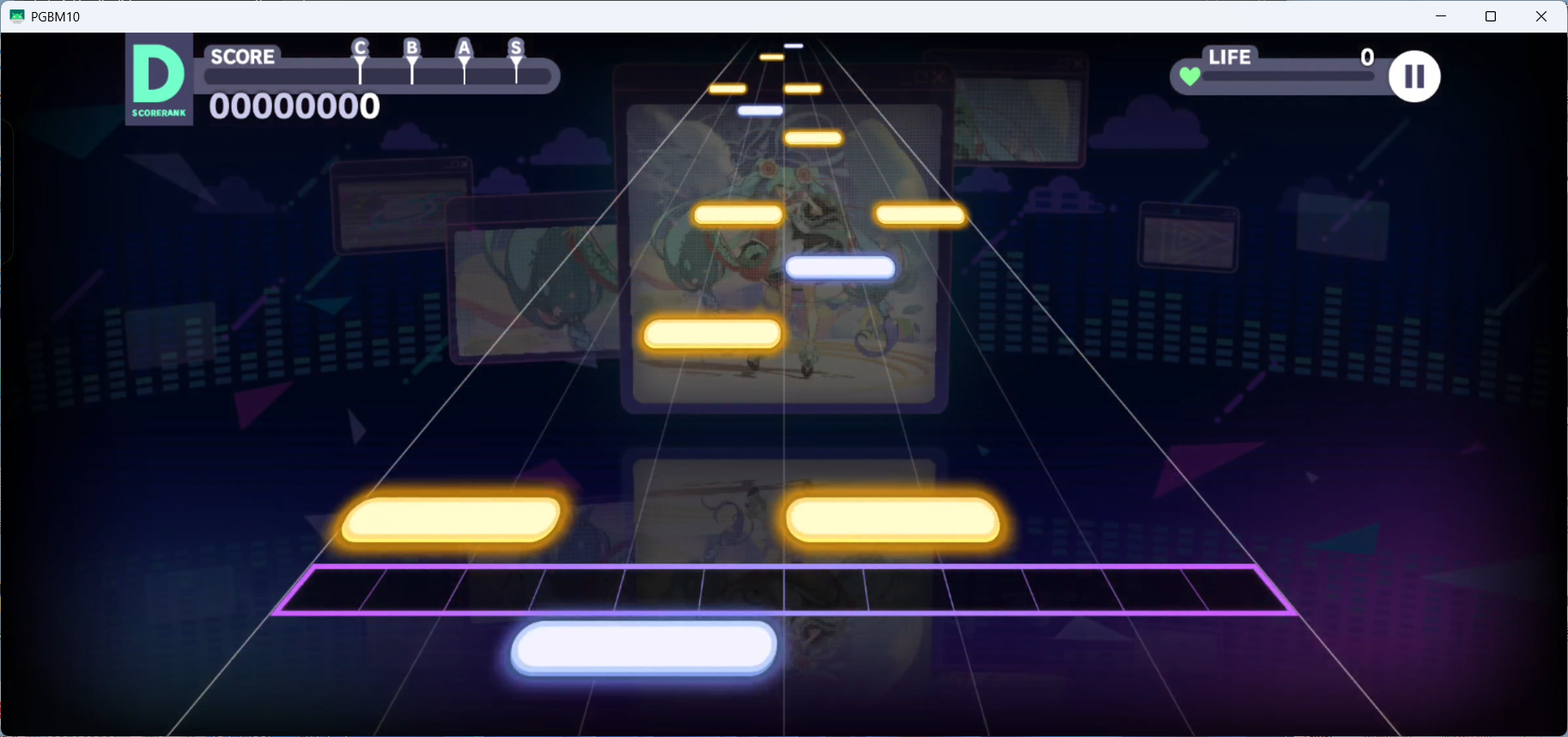tap: (512, 621, 778, 676), (784, 493, 1001, 544), (337, 497, 562, 542), (641, 317, 783, 351), (785, 253, 895, 280), (694, 204, 783, 226), (875, 205, 965, 226), (785, 132, 842, 144), (737, 105, 783, 117), (708, 83, 747, 94), (783, 83, 822, 94), (759, 53, 785, 60), (784, 42, 804, 49)
